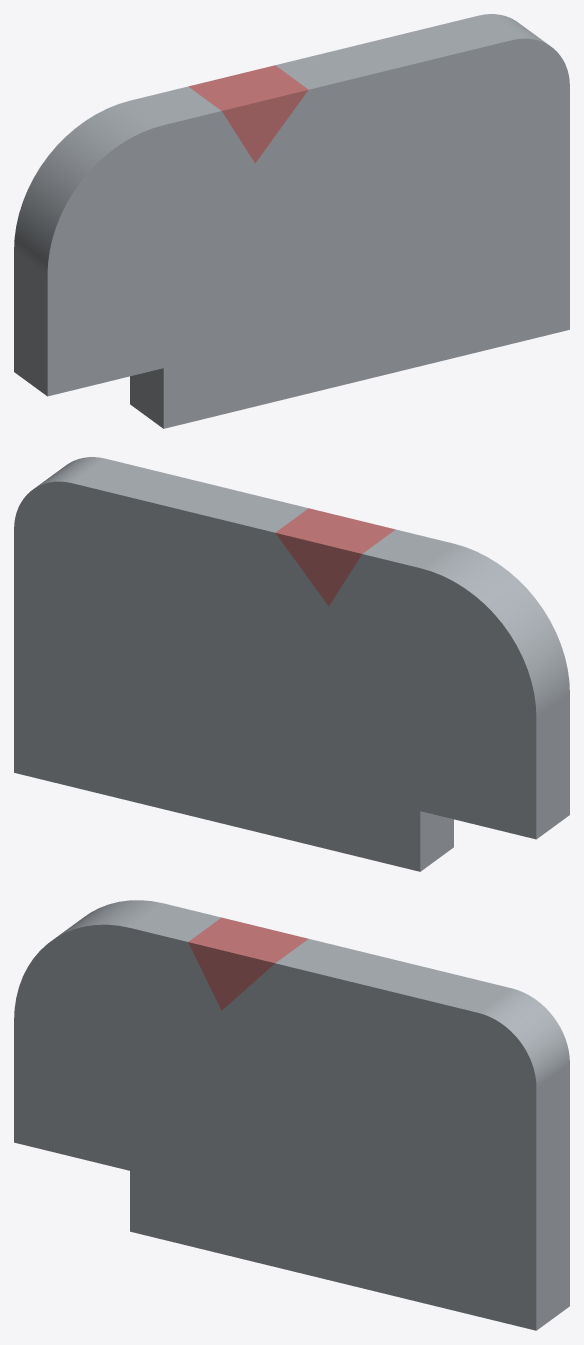
File: step_05.glb
3 views of the same model, one above another, from view 1: azimuth 30°, elevation 25°; view 2: azimuth 150°, elevation 25°; view 3: azimuth 330°, elevation 25° (orthographic).
Parts seen in each view (by area): view 1: part__vee notch plate, removed__vee notch plate; view 2: part__vee notch plate, removed__vee notch plate; view 3: part__vee notch plate, removed__vee notch plate.
Boxes of the visible parts, x1,y1,x2,y2 form: part__vee notch plate: [14, 14, 569, 428]; removed__vee notch plate: [188, 65, 308, 163]; part__vee notch plate: [14, 457, 569, 871]; removed__vee notch plate: [275, 508, 395, 606]; part__vee notch plate: [14, 900, 569, 1330]; removed__vee notch plate: [188, 917, 308, 1010].
Size of the model in its own units: 90 by 50 by 10.
